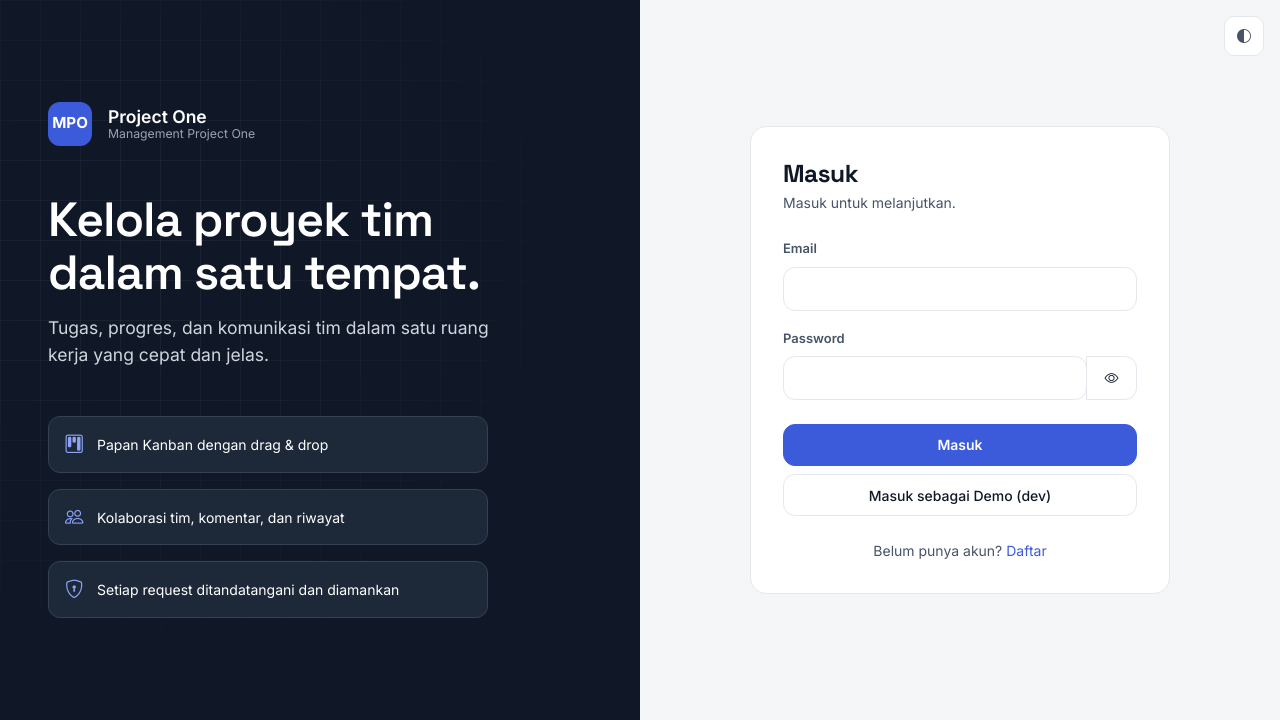
Test: halaman login › input kosong: pesan validasi per field dan API tidak dipanggil
Click the button "Masuk".
click(960, 445)  # box [783,424,1137,466]
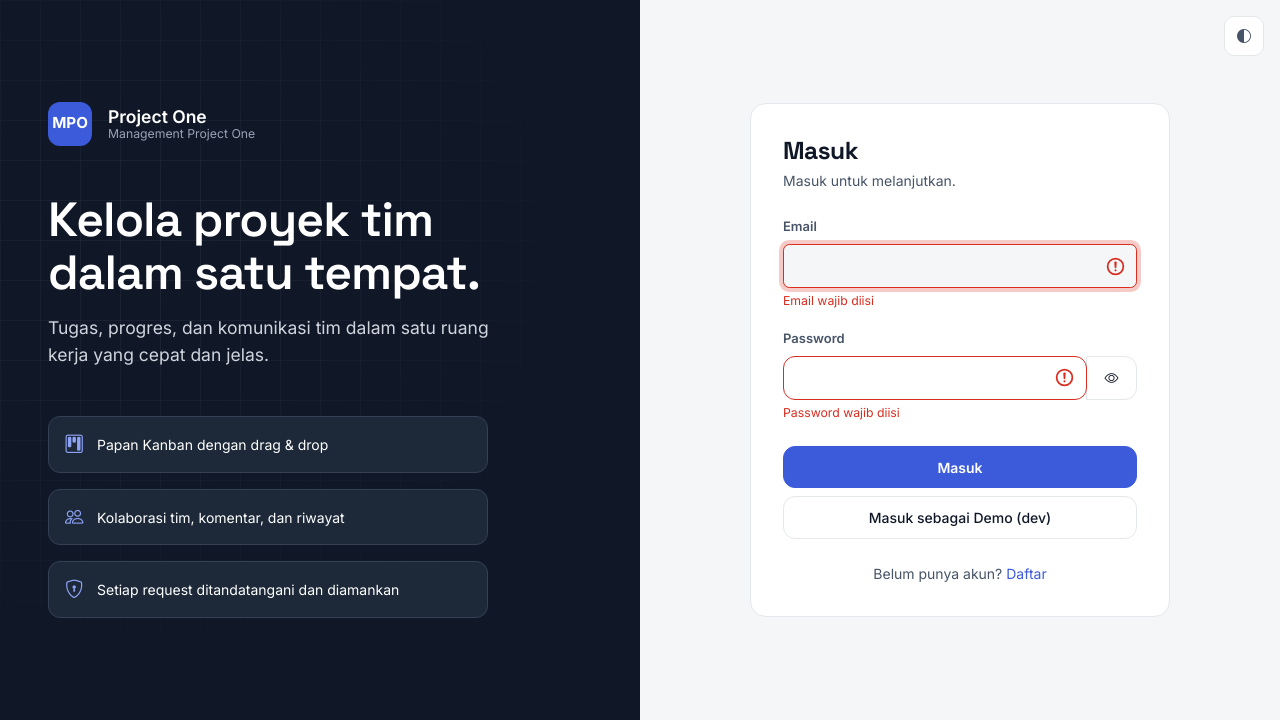
Expected: the text "Email wajib diisi" is shown, [783,293,874,308]
Expected: the text "Password wajib diisi" is shown, [783,405,900,420]
